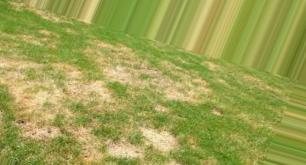patch: (16, 83, 165, 156), (96, 61, 180, 103)
